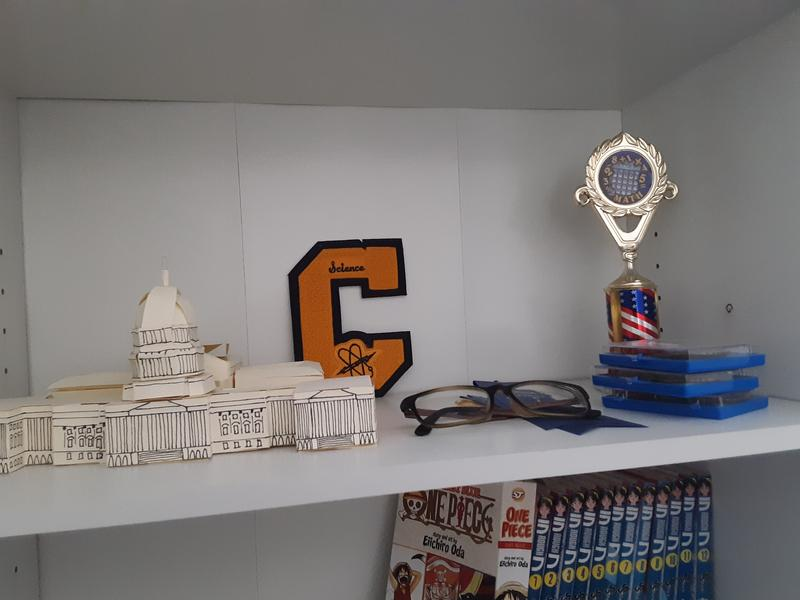glasses: (398, 378, 604, 438)
